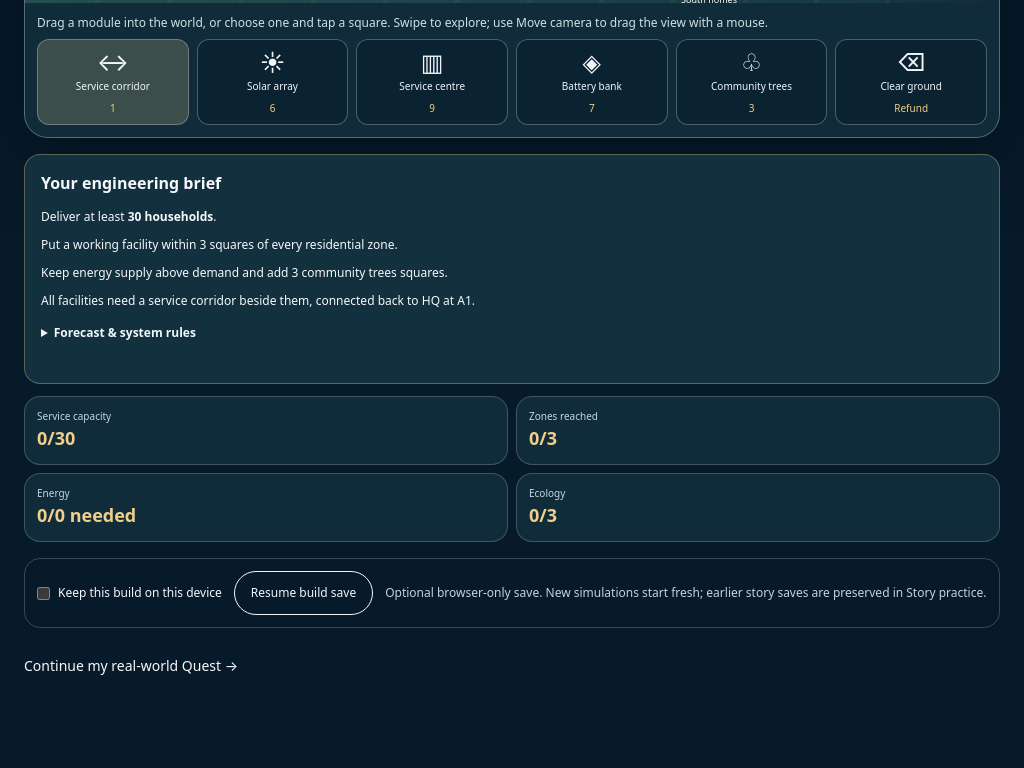
honours saving opt-out even while a simulation result is pending
This screenshot has width=1024, height=768.
(page scrolled)
Click the button "Resume build save" at x=303, y=593, box [234,571,373,615]
(page scrolled)
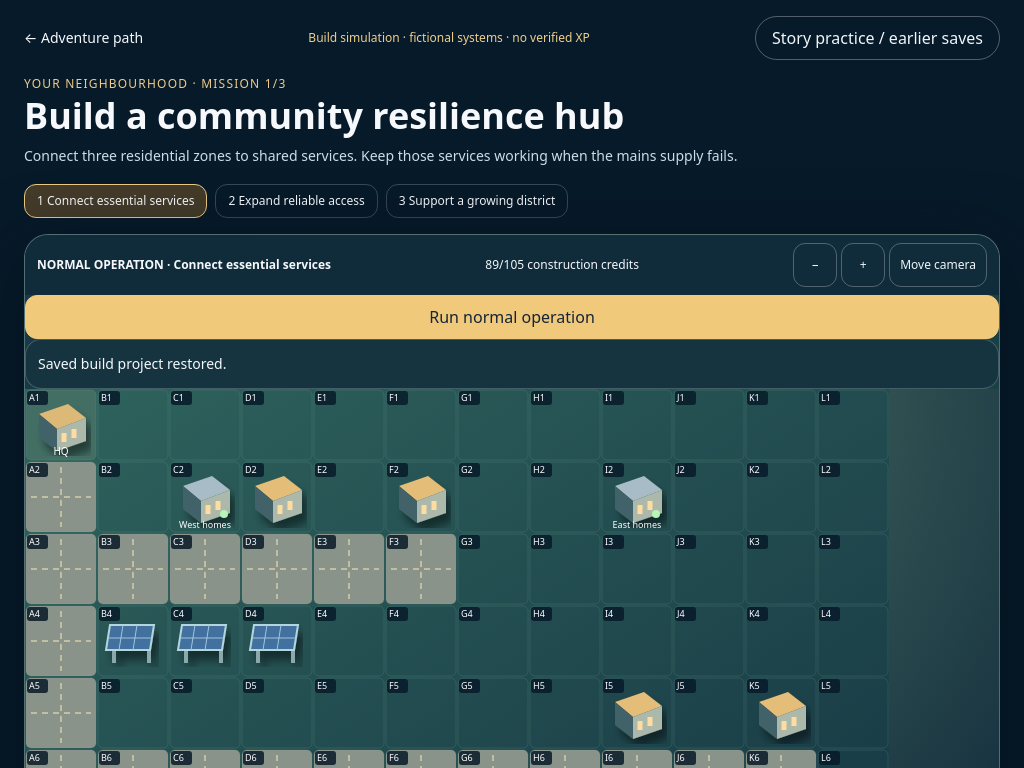
Click the button "Run normal operation" at x=512, y=317, box [25,295,999,339]
(page scrolled)
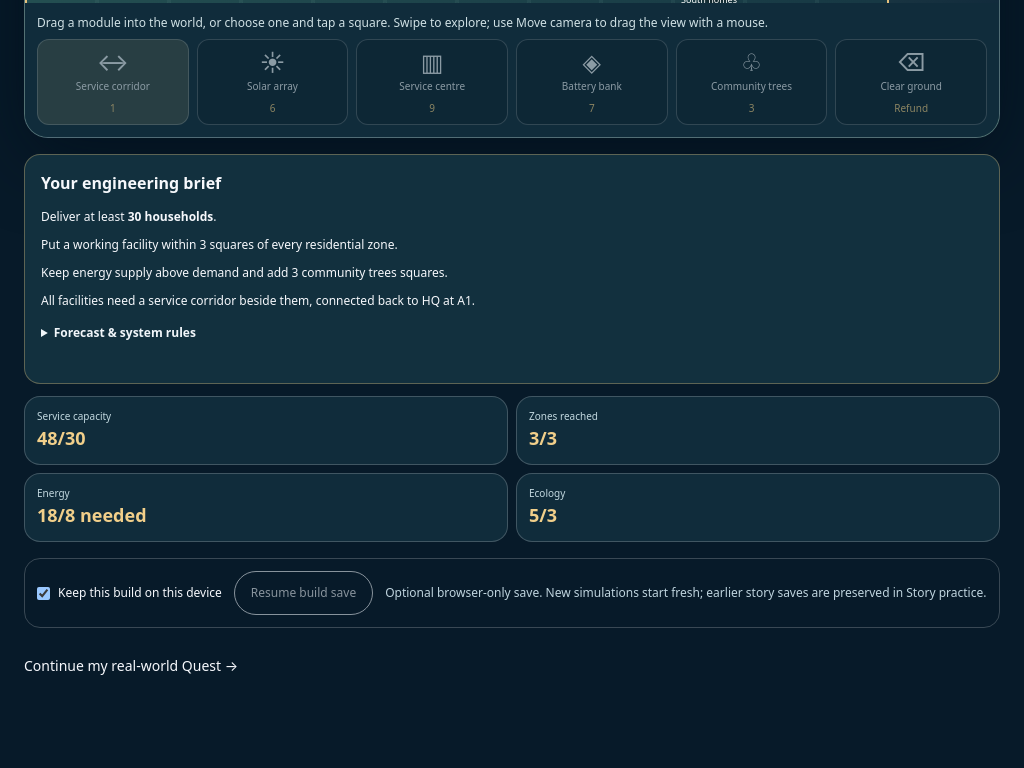
Click the checkbox labelled "Keep this build on this device" at x=44, y=593, box [37,587,50,600]
Wait 2000 ms
(page scrolled)
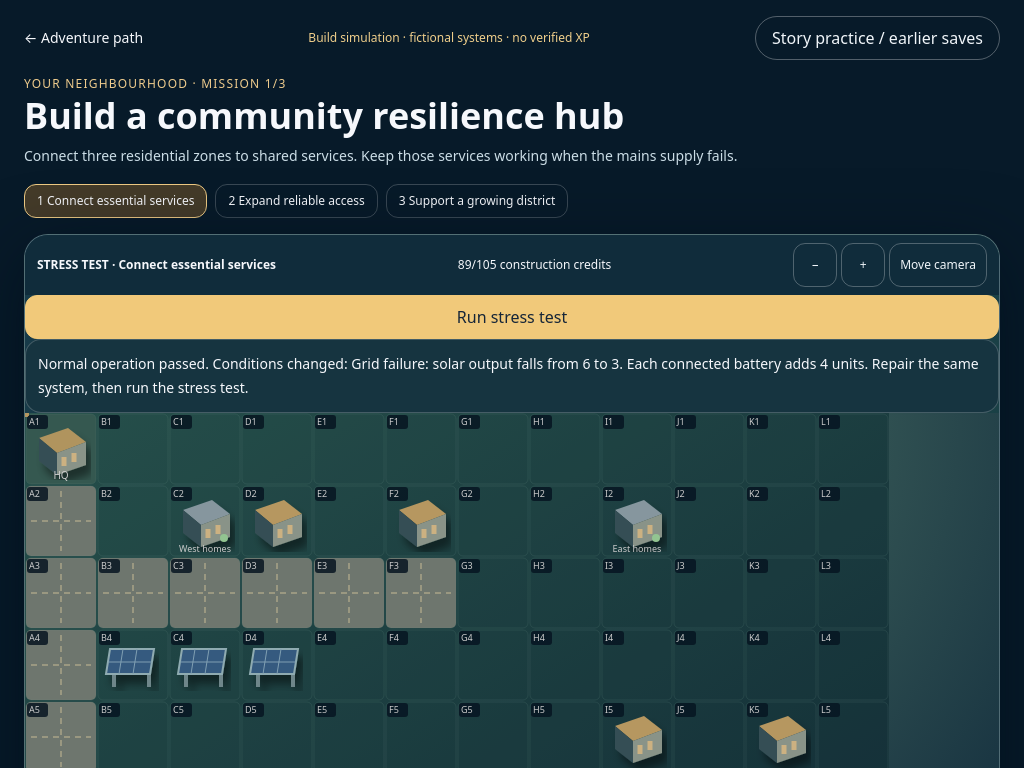
Result: the button "Run stress test" is shown at [25,295,999,339]
